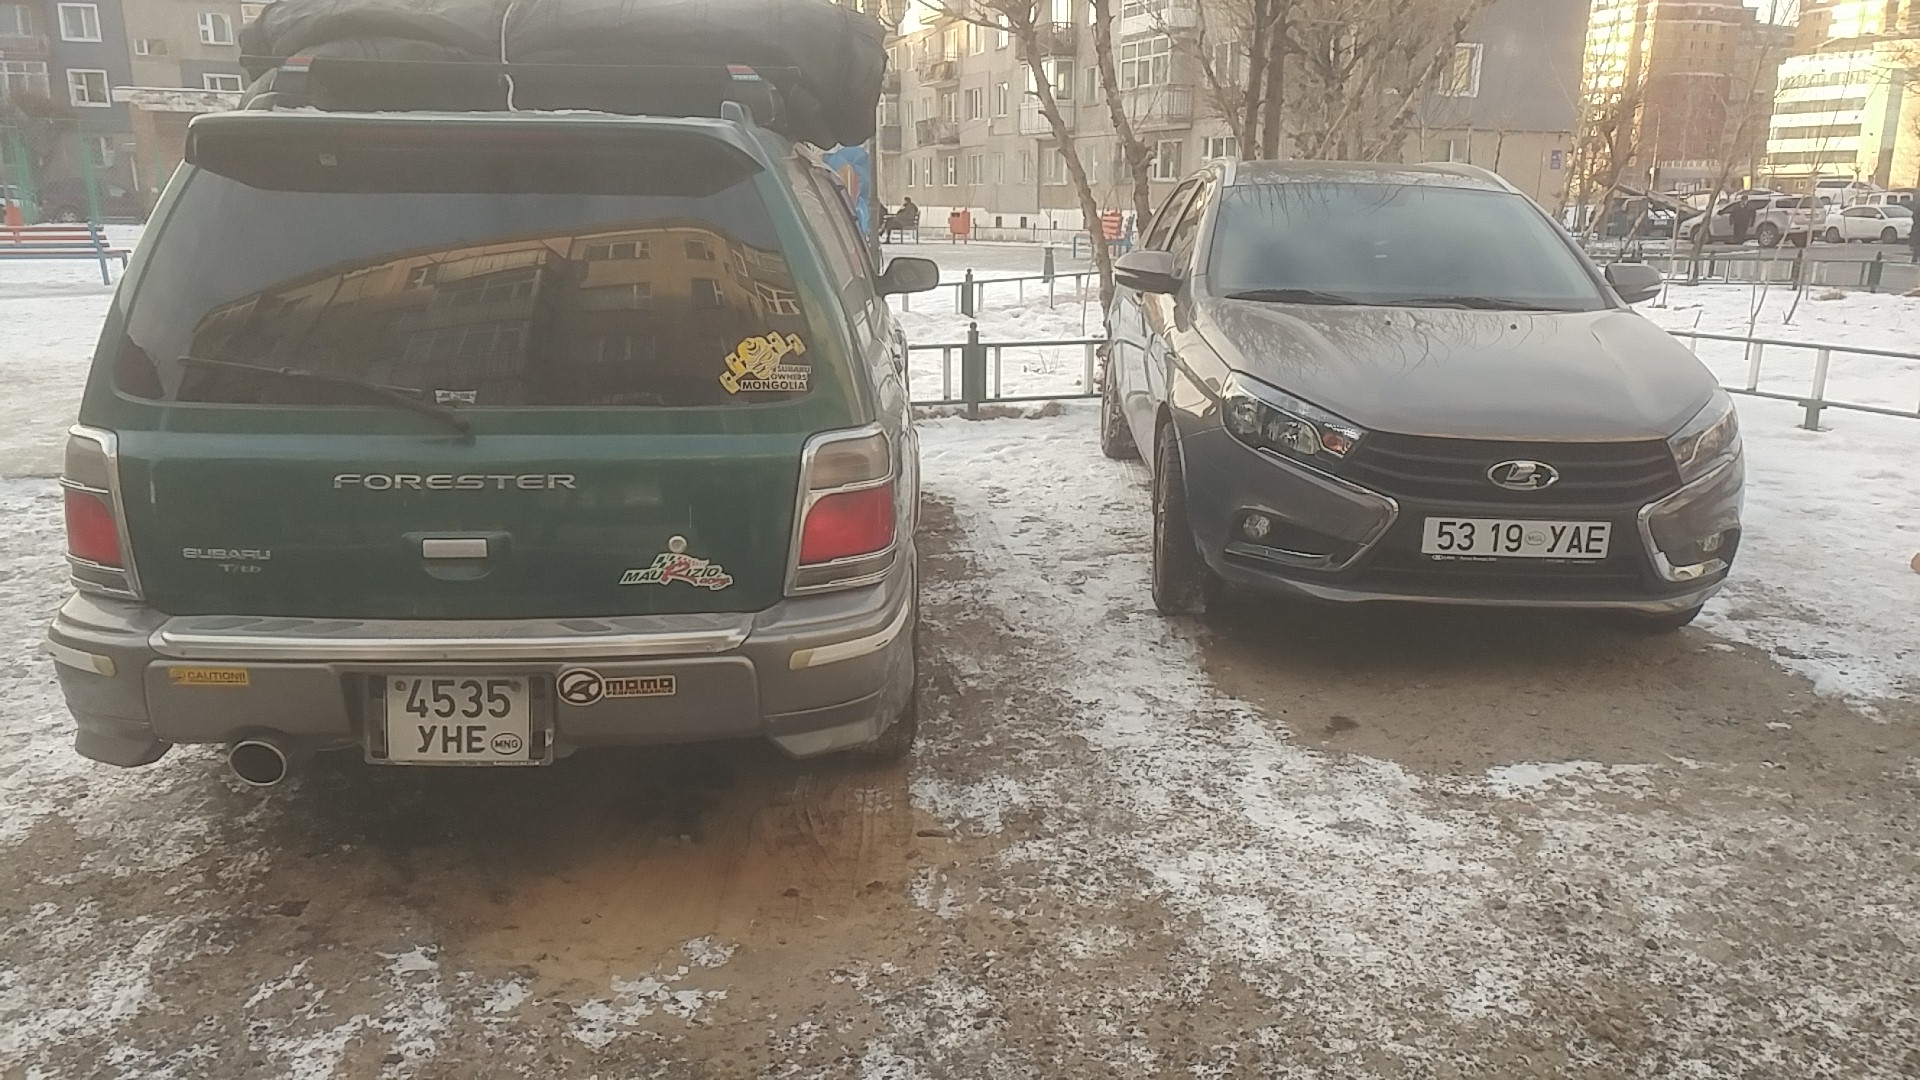1: (1489, 521, 1503, 553)
3: (460, 677, 484, 718), (1457, 521, 1476, 551)
4: (404, 677, 429, 717)
5: (486, 678, 514, 718), (431, 677, 458, 718), (1437, 519, 1456, 550)
9: (1504, 522, 1524, 553)
a: (1565, 524, 1584, 554)
n: (441, 724, 463, 753)
plate: (381, 665, 542, 772), (1418, 510, 1613, 568)
u: (417, 723, 439, 753), (1546, 523, 1567, 553)
ye: (1584, 524, 1607, 555), (465, 725, 488, 755)
